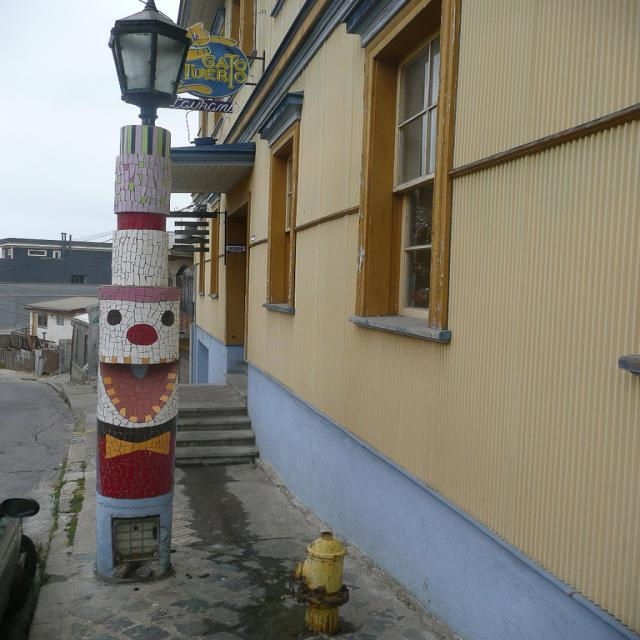fire_hydrant: (287, 530, 350, 637)
